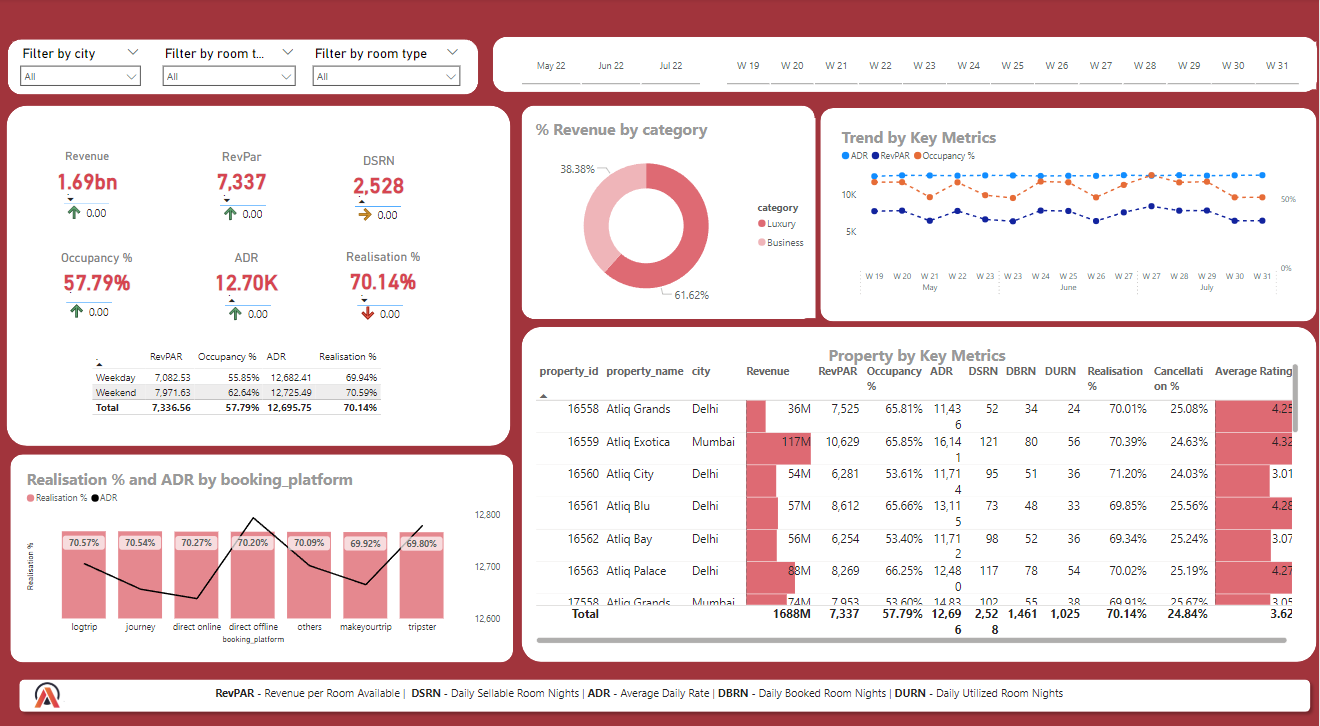

The dashboard page shown, as its layout file describes it:
{"tool":"powerbi","page":{"name":"Main","canvas":[1800,1000],"ordinal":0},"visuals":[{"type":"shape","box":[712.6,145.7,400,291.2],"z":0},{"type":"shape","box":[10.1,145.8,687,464.1],"z":1000},{"type":"shape","box":[12.2,55.9,641.4,75.6],"z":2000},{"type":"tableEx","fields":{"Values":["key_measures.Revenue WoW Change %"]},"box":[82.3,247.1,92.2,81.1],"z":3000},{"type":"slicer","title":"Filter by city","fields":{"Values":["dim_hotels.city"]},"box":[18.4,60.2,184.3,67],"z":4000},{"type":"slicer","title":"Filter by room type","fields":{"Values":["dim_rooms.room_class"]},"box":[212.8,60.2,201.1,67],"z":5000},{"type":"donutChart","title":"% Revenue by category","fields":{"Category":["dim_hotels.category"],"Y":["key_measures.Revenue"]},"box":[725.2,163.4,387.1,272.8],"z":6000},{"type":"tableEx","fields":{"Values":["key_measures.DSRN Wow Change %"]},"box":[478.6,250.8,97.7,92.2],"z":7000},{"type":"tableEx","fields":{"Values":["key_measures.Realisation Wow Change %"]},"box":[482.2,385.3,92.2,70],"z":8000},{"type":"card","title":"DSRN","fields":{"Values":["key_measures.DSRN"]},"box":[465.7,212.1,105.1,70],"z":9000},{"type":"card","title":"Realisation %","fields":{"Values":["key_measures.Realisation %"]},"box":[462,342.9,123.5,70],"z":10000},{"type":"tableEx","fields":{"Values":["key_measures.Revpar Wow change %"]},"box":[294.2,248.9,84.8,68.2],"z":11000},{"type":"card","title":"RevPar","fields":{"Values":["key_measures.RevPAR"]},"box":[283,206,95.8,70],"z":12000},{"type":"tableEx","fields":{"Values":["dim_date.day_type","key_measures.RevPAR","key_measures.Occupancy %","key_measures.ADR","key_measures.Realisation %"]},"box":[121,472,405.5,108.7],"z":13000},{"type":"tableEx","fields":{"Values":["key_measures.ADR Wow Change %"]},"box":[301.6,385.3,112.4,64.5],"z":14000},{"type":"card","title":"ADR","fields":{"Values":["key_measures.ADR"]},"box":[274,344.8,125.3,70],"z":15000},{"type":"tableEx","fields":{"Values":["key_measures.Occupancy Wow Change %"]},"box":[86,381.6,106.9,62.7],"z":16000},{"type":"card","title":"Occupancy %","fields":{"Values":["key_measures.Occupancy %"]},"box":[73.1,344.8,119.8,70],"z":17000},{"type":"card","title":"Revenue","fields":{"Values":["key_measures.Revenue"]},"box":[63.9,206.8,110.6,70],"z":18000},{"type":"shape","box":[673.9,53.6,1124.3,75.6],"z":19000},{"type":"slicer","title":"Filter by week","fields":{"Values":["dim_date.week no"]},"box":[967,59.1,829.4,64.5],"z":20000},{"type":"slicer","title":"Filter by date","fields":{"Values":["dim_date.mmm yy"]},"box":[686.8,59.1,293.1,64.5],"z":21000},{"type":"shape","box":[1120,149.4,676.4,291.2],"z":22000},{"type":"lineChart","title":"Trend by Key Metrics","fields":{"Category":["dim_date.mmm yy.Variation.Date Hierarchy.Month","dim_date.week no"],"Y":["key_measures.ADR","key_measures.RevPAR"],"Y2":["key_measures.Occupancy %"]},"box":[1143.9,173.4,632.2,241.5],"z":23000},{"type":"shape","box":[15.9,621.3,685.7,283.8],"z":24000},{"type":"lineStackedColumnComboChart","fields":{"Category":["fact_bookings.booking_platform"],"Y":["key_measures.Realisation %"],"Y2":["key_measures.ADR"]},"box":[32.1,640.4,656.2,245.1],"z":25000},{"type":"shape","box":[712.6,448,1083.8,457.1],"z":26000},{"type":"tableEx","title":"Property by Key Metrics","fields":{"Values":["dim_hotels.property_id","dim_hotels.property_name","dim_hotels.city","key_measures.Revenue","key_measures.RevPAR","key_measures.Occupancy %","key_measures.ADR","key_measures.DSRN","key_measures.DBRN","key_measures.DURN","key_measures.Realisation %","key_measures.Cancellation %"]},"box":[725.5,472,1050.6,412.9],"z":27000},{"type":"shape","box":[18.4,919.9,1777.8,62],"z":28000},{"type":"textbox","box":[290.6,932.8,1212.8,36.9],"z":28001},{"type":"image","box":[30.2,919.9,67,60.3],"z":28002},{"type":"slicer","title":"Filter by room type","fields":{"Values":["dim_rooms.room_class"]},"box":[417.2,60.2,221.2,67],"z":28003}]}

Visuals, with their boxes in screenshot pixels (x1, y1, x2, y2), scaled from the page's 1800x1000 canvas onto the 1320x726 screenshot:
shape: bbox=[523, 106, 816, 317]
shape: bbox=[7, 106, 511, 443]
shape: bbox=[9, 41, 479, 95]
tableEx - key_measures.Revenue WoW Change %: bbox=[60, 179, 128, 238]
"Filter by city" slicer: bbox=[13, 44, 149, 92]
"Filter by room type" slicer: bbox=[156, 44, 304, 92]
"% Revenue by category" donutChart: bbox=[532, 119, 816, 317]
tableEx - key_measures.DSRN Wow Change %: bbox=[351, 182, 423, 249]
tableEx - key_measures.Realisation Wow Change %: bbox=[354, 280, 421, 331]
"DSRN" card: bbox=[342, 154, 419, 205]
"Realisation %" card: bbox=[339, 249, 429, 300]
tableEx - key_measures.Revpar Wow change %: bbox=[216, 181, 278, 230]
"RevPar" card: bbox=[208, 150, 278, 200]
tableEx - dim_date.day_type x key_measures.RevPAR: bbox=[89, 343, 386, 422]
tableEx - key_measures.ADR Wow Change %: bbox=[221, 280, 304, 327]
"ADR" card: bbox=[201, 250, 293, 301]
tableEx - key_measures.Occupancy Wow Change %: bbox=[63, 277, 141, 323]
"Occupancy %" card: bbox=[54, 250, 141, 301]
"Revenue" card: bbox=[47, 150, 128, 201]
shape: bbox=[494, 39, 1319, 94]
"Filter by week" slicer: bbox=[709, 43, 1317, 90]
"Filter by date" slicer: bbox=[504, 43, 719, 90]
shape: bbox=[821, 108, 1317, 320]
"Trend by Key Metrics" lineChart: bbox=[839, 126, 1302, 301]
shape: bbox=[12, 451, 515, 657]
lineStackedColumnComboChart - fact_bookings.booking_platform x key_measures.Realisation %: bbox=[24, 465, 505, 643]
shape: bbox=[523, 325, 1317, 657]
"Property by Key Metrics" tableEx: bbox=[532, 343, 1302, 642]
shape: bbox=[13, 668, 1317, 713]
textbox: bbox=[213, 677, 1102, 704]
image: bbox=[22, 668, 71, 712]
"Filter by room type" slicer: bbox=[306, 44, 468, 92]
